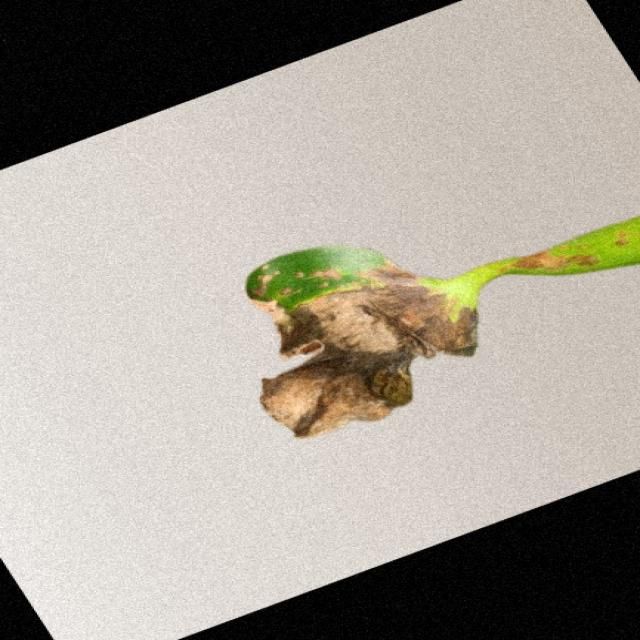daun berpenyakit karat: (247, 218, 638, 438)
